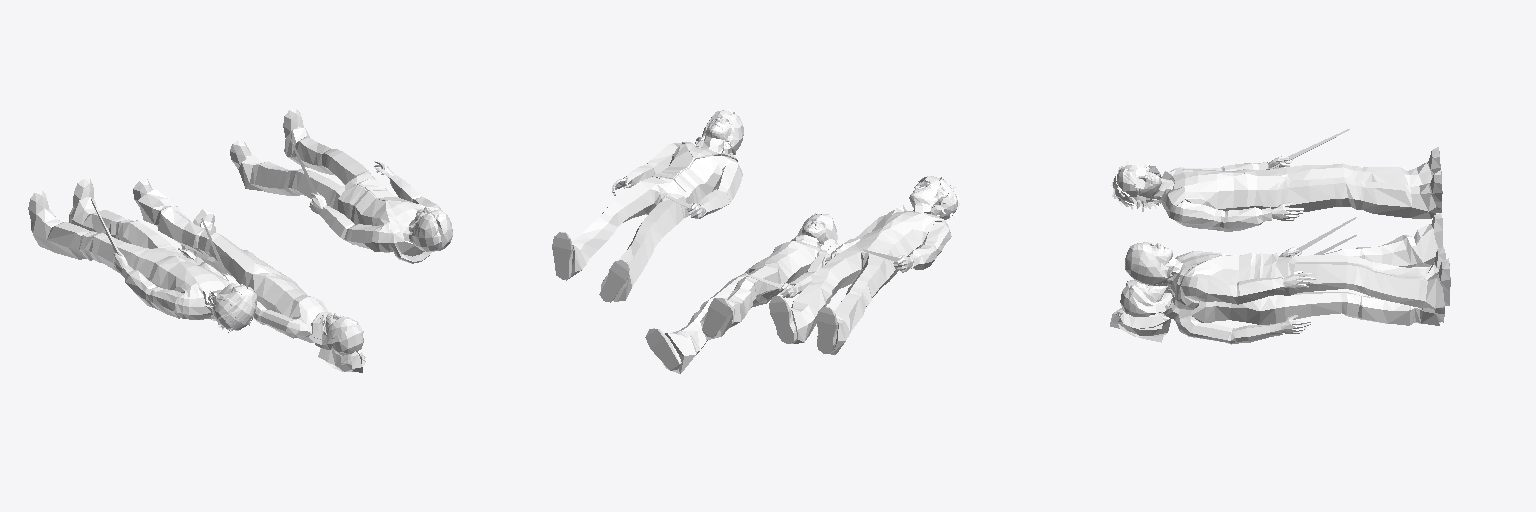
File: harry.obj
3 views of the same model, side by side, from view 1: azimuth 30°, elevation 25°; view 2: azimuth 150°, elevation 25°; view 3: azimuth 270°, elevation 25° (orthographic).
Visible parts, largest first — view 1: Ref3D_42, Ref3D_72, Ref3D_37, Ref3D_67, Ref3D_12, Ref3D_17, Ref3D_107, Ref3D_92, Ref3D_82, Ref3D_62, Ref3D_47, Ref3D_22 (+1 smaller); view 2: Ref3D_37, Ref3D_72, Ref3D_42, Ref3D_12, Ref3D_67, Ref3D_17, Ref3D_62, Ref3D_7, Ref3D_47, Ref3D_52, Ref3D_77, Ref3D_107 (+2 smaller); view 3: Ref3D_72, Ref3D_67, Ref3D_12, Ref3D_37, Ref3D_42, Ref3D_17, Ref3D_82, Ref3D_92, Ref3D_77, Ref3D_107, Ref3D_52, Ref3D_32 (+3 smaller).
Boxes of the visible parts, x1,y1,x2,y2 form: Ref3D_42: [319, 175, 442, 263]; Ref3D_72: [32, 197, 180, 272]; Ref3D_37: [238, 127, 374, 210]; Ref3D_67: [121, 252, 230, 319]; Ref3D_12: [138, 189, 297, 301]; Ref3D_17: [253, 276, 331, 342]; Ref3D_107: [205, 285, 256, 332]; Ref3D_92: [403, 210, 452, 251]; Ref3D_82: [309, 320, 365, 372]; Ref3D_62: [28, 179, 93, 232]; Ref3D_47: [230, 109, 303, 168]; Ref3D_22: [332, 322, 363, 355]; Ref3D_37: [555, 177, 687, 301]; Ref3D_72: [790, 244, 896, 354]; Ref3D_42: [623, 142, 742, 216]; Ref3D_12: [662, 263, 787, 373]; Ref3D_67: [831, 205, 951, 274]; Ref3D_17: [749, 235, 828, 294]; Ref3D_62: [769, 296, 837, 353]; Ref3D_7: [645, 298, 729, 370]; Ref3D_47: [552, 232, 629, 302]; Ref3D_52: [612, 116, 731, 218]; Ref3D_77: [821, 183, 940, 272]; Ref3D_107: [916, 176, 959, 220]; Ref3D_72: [1264, 162, 1436, 218]; Ref3D_67: [1157, 162, 1271, 231]; Ref3D_12: [1259, 224, 1440, 325]; Ref3D_37: [1275, 255, 1444, 308]; Ref3D_42: [1170, 251, 1284, 309]; Ref3D_17: [1161, 287, 1282, 344]; Ref3D_82: [1110, 280, 1171, 342]; Ref3D_92: [1125, 242, 1173, 288]; Ref3D_77: [1125, 156, 1303, 220]; Ref3D_107: [1111, 161, 1161, 211]; Ref3D_52: [1151, 243, 1315, 287]; Ref3D_32: [1133, 281, 1311, 333].
Size of the model in its own units: 67.34 by 31.83 by 66.15.